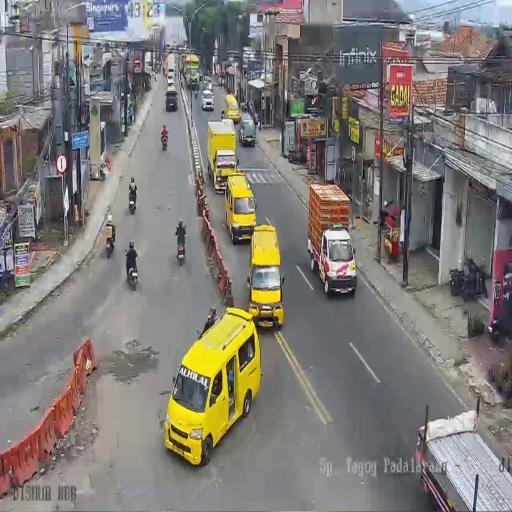3: (415, 395, 512, 511), (306, 186, 354, 298), (185, 52, 200, 88)
car: (164, 309, 262, 465), (248, 226, 288, 326), (224, 172, 256, 244), (238, 114, 256, 147), (223, 94, 240, 124), (165, 89, 178, 111), (201, 90, 214, 111), (203, 76, 213, 92), (166, 72, 175, 88)
truck: (126, 256, 139, 290), (287, 148, 306, 166), (176, 229, 186, 262), (106, 231, 115, 258), (128, 189, 137, 214), (161, 132, 167, 148), (195, 86, 199, 99)
